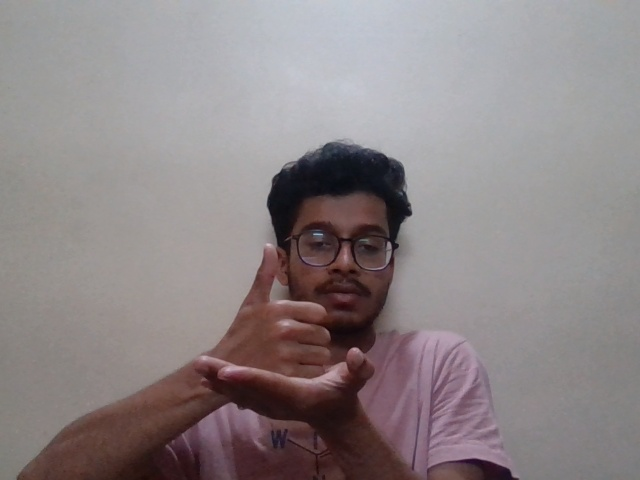help: (196, 244, 393, 440)
